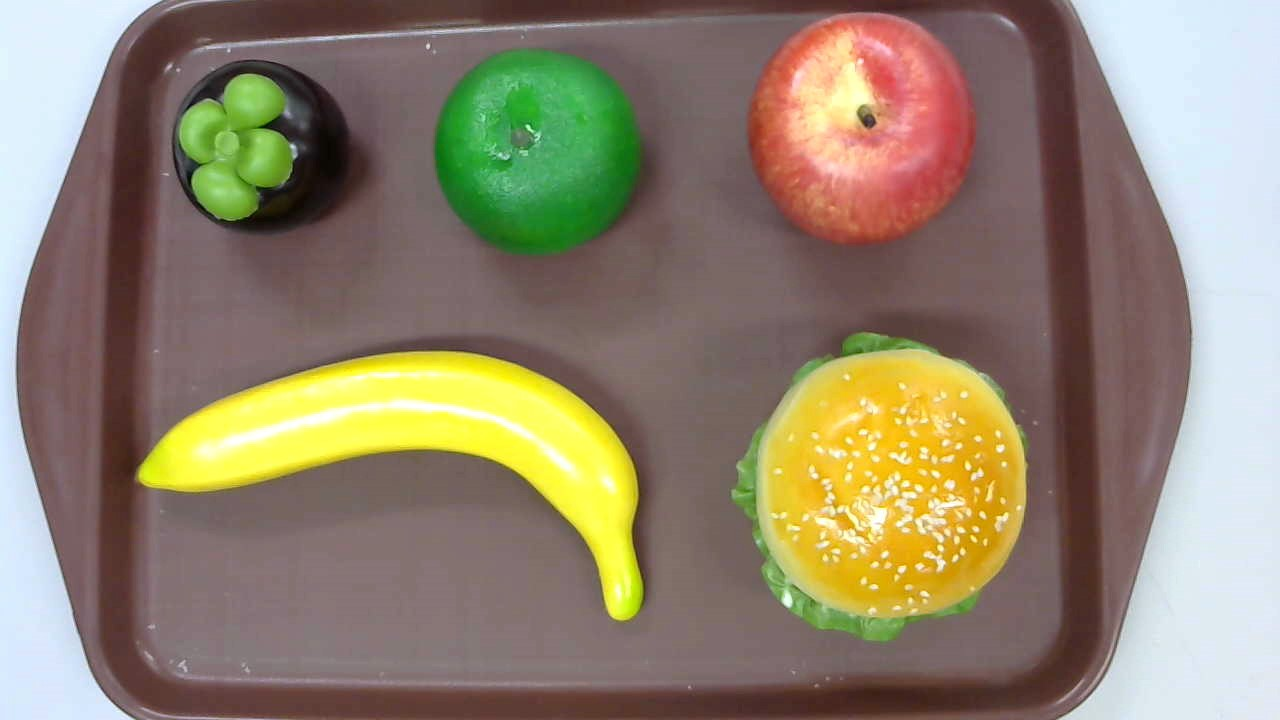banana: (134, 350, 643, 622)
green orange: (433, 48, 641, 258)
hamburger: (731, 331, 1029, 644)
mangosteen: (171, 59, 350, 236)
red apple: (747, 11, 977, 246)
